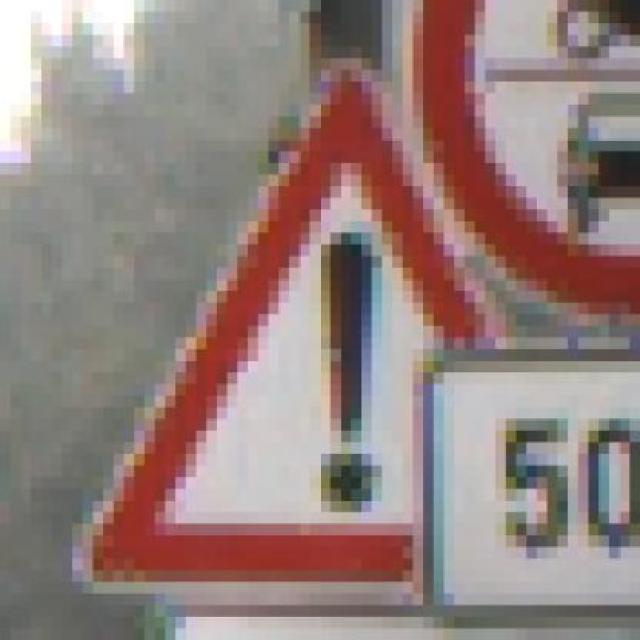Attention Please-: (31, 69, 629, 594)
